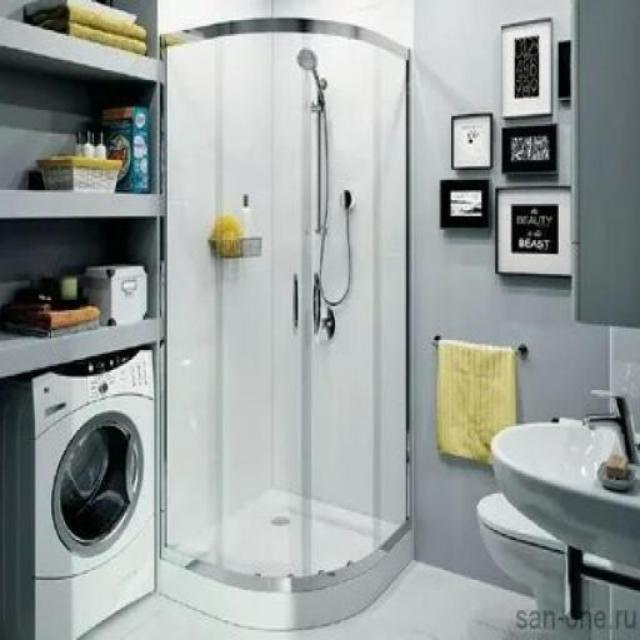Washing-Machine: (13, 358, 154, 630)
